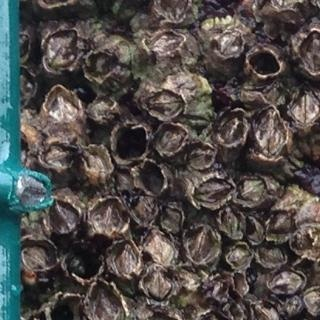Barnacle: (89, 197, 127, 242), (46, 88, 82, 134), (44, 29, 77, 72), (256, 109, 287, 154), (87, 283, 124, 320), (290, 86, 320, 128), (194, 178, 234, 209), (144, 90, 184, 120), (186, 226, 215, 262), (50, 201, 78, 237), (145, 268, 174, 302), (112, 243, 138, 280), (22, 239, 55, 268), (156, 125, 189, 154), (43, 140, 75, 169), (271, 269, 305, 296), (84, 144, 111, 178), (236, 175, 269, 202), (266, 208, 295, 238), (218, 114, 245, 146), (144, 237, 175, 264), (217, 30, 247, 57), (301, 30, 320, 72), (147, 31, 183, 53), (85, 51, 117, 75), (185, 142, 214, 168), (256, 244, 286, 267), (161, 205, 183, 233), (292, 230, 315, 256), (221, 208, 240, 238), (88, 95, 113, 117), (250, 304, 279, 320), (282, 297, 302, 320), (245, 215, 263, 240), (230, 246, 250, 268), (135, 204, 154, 225), (305, 289, 320, 313)
